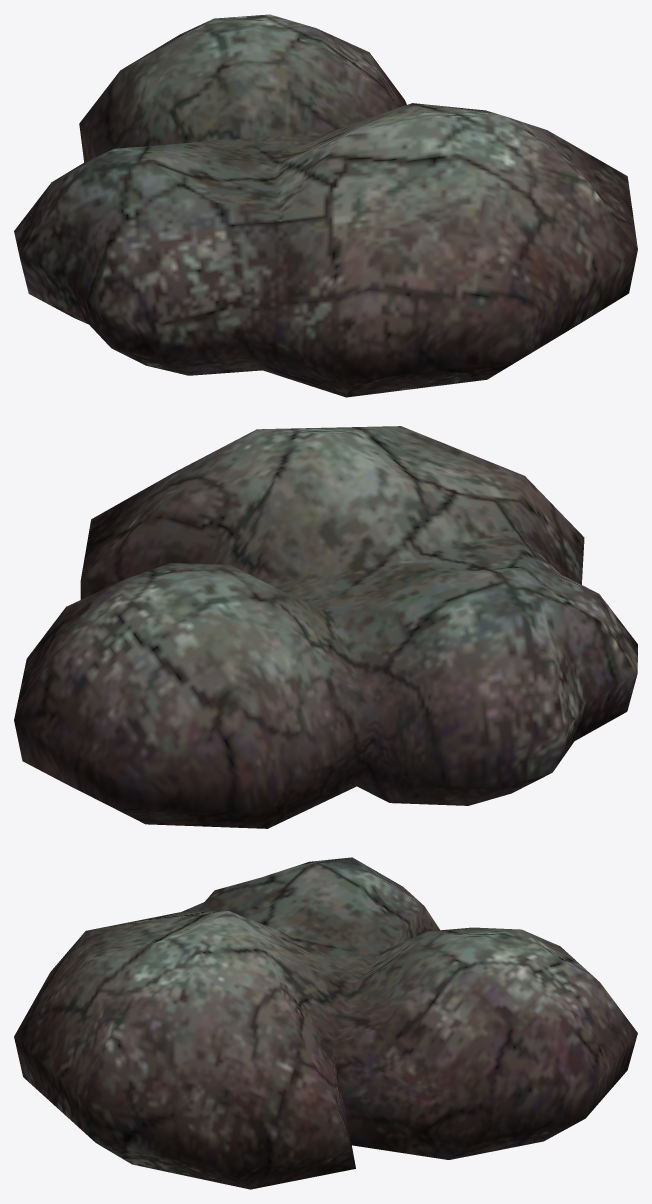
File: robot_lamp_growing03.dae
3 renders of one model, top to bottom at view 1: azimuth 30°, elevation 25°; view 2: azimuth 150°, elevation 25°; view 3: azimuth 270°, elevation 25°, orthographic. The views are drawn at different scales.
Visible parts, largest first — view 1: robot_lamp_growing03; view 2: robot_lamp_growing03; view 3: robot_lamp_growing03.
Boxes of the visible parts, box(x1,y1,x2,y2) form: robot_lamp_growing03: box(14, 14, 637, 397); robot_lamp_growing03: box(14, 426, 637, 828); robot_lamp_growing03: box(14, 857, 637, 1189).
Bounding box in the file's own units: 0.229 × 0.0989 × 0.2608.
